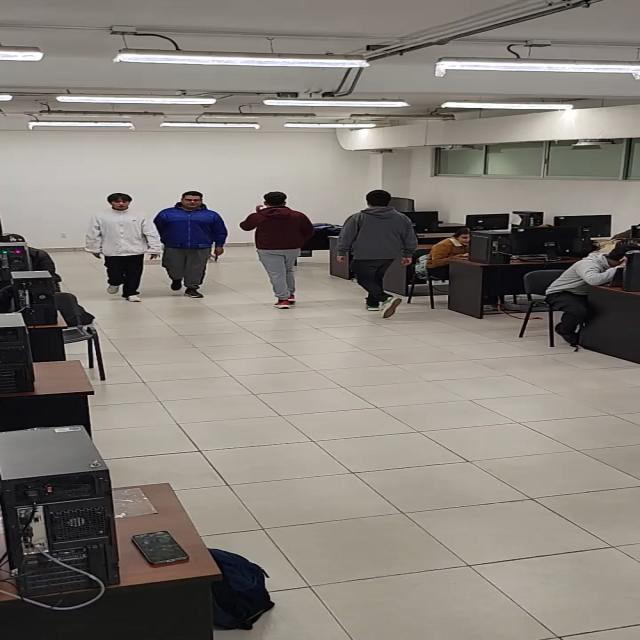Persona: (342, 187, 418, 317), (246, 192, 313, 308), (152, 190, 222, 298), (91, 192, 158, 300)
